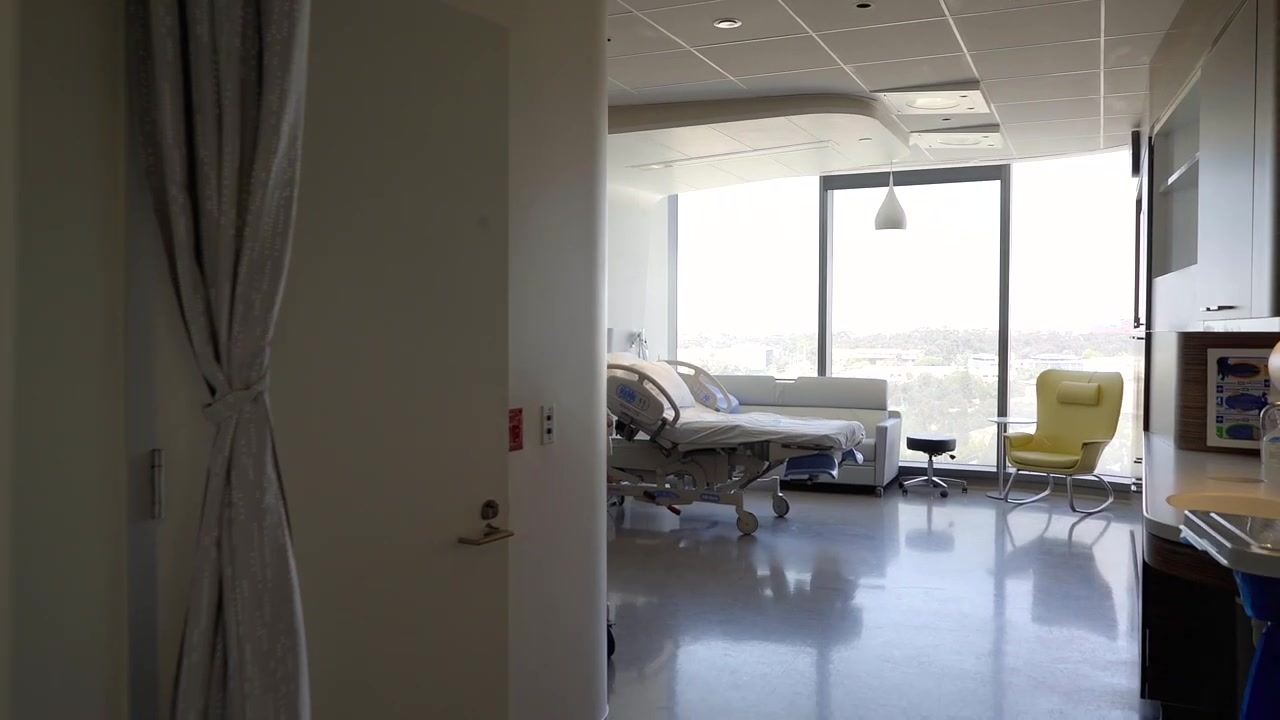bedrail: (607, 363, 681, 427), (656, 359, 733, 414)
chair: (987, 369, 1124, 514), (899, 437, 968, 498)
countertop: (1141, 433, 1267, 548)
curtain: (145, 1, 317, 720)
door_handle: (459, 528, 518, 547)
faucet: (1260, 400, 1280, 439)
handle: (1198, 305, 1232, 313), (1128, 335, 1148, 345), (1128, 454, 1142, 463)
hospital_bed: (606, 355, 865, 532)
light_switch: (542, 408, 557, 445)
sink: (1166, 492, 1280, 519)
sofa: (697, 375, 902, 498)
table: (983, 415, 1031, 504)
